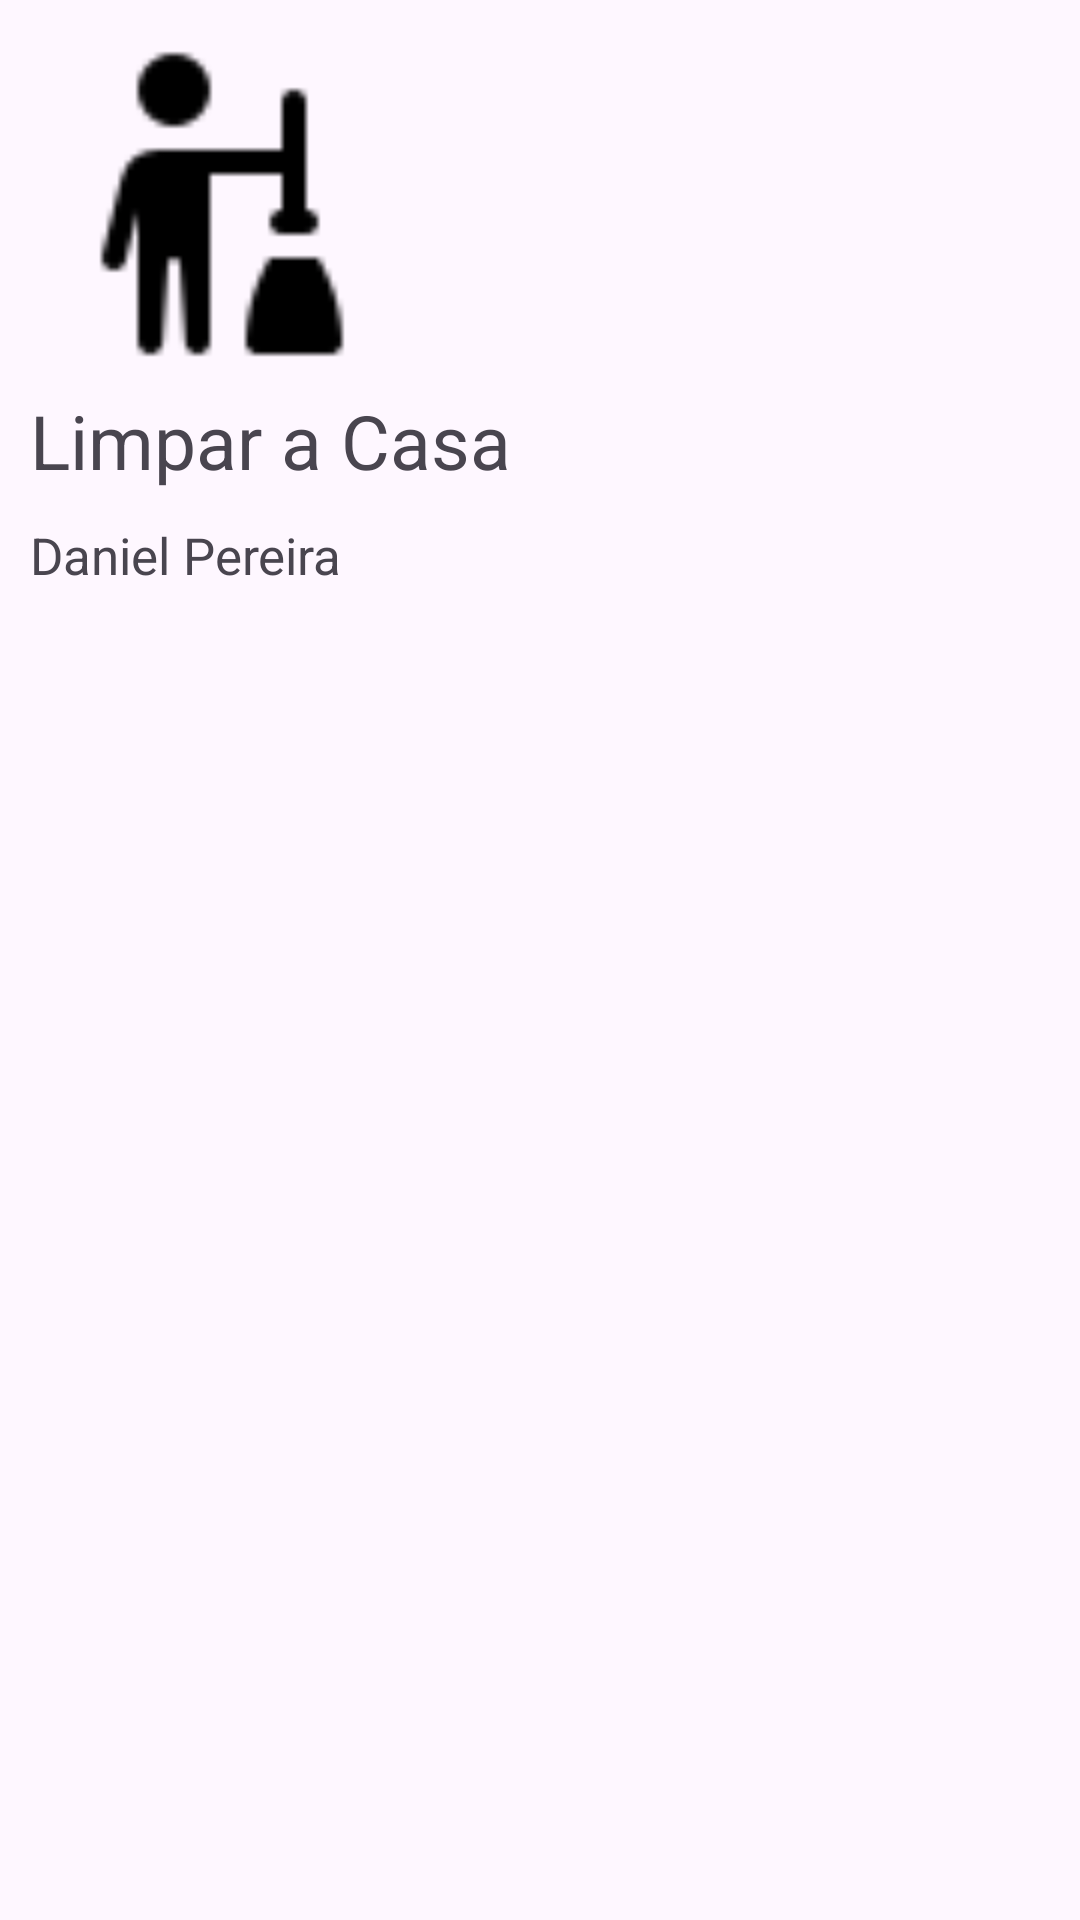

Icon click points for this 1080x1920 phone screenshot, format point (x, y):
janitor: point (222, 204)
